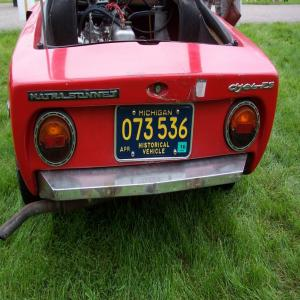Vehicle-registration-plate: (115, 101, 202, 168)
